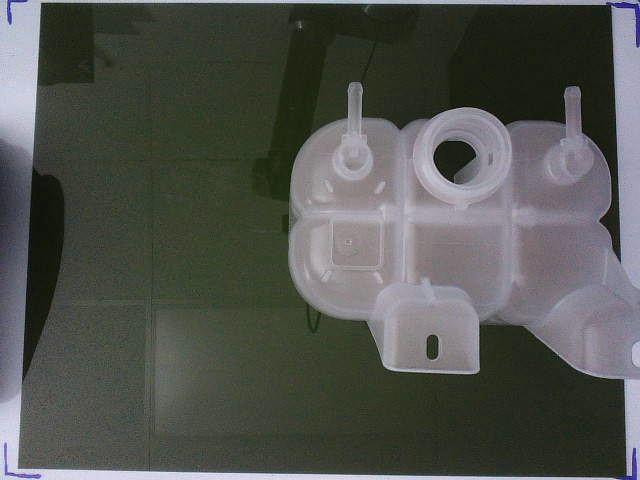reservoir_transparent_Top: (288, 81, 640, 379)
